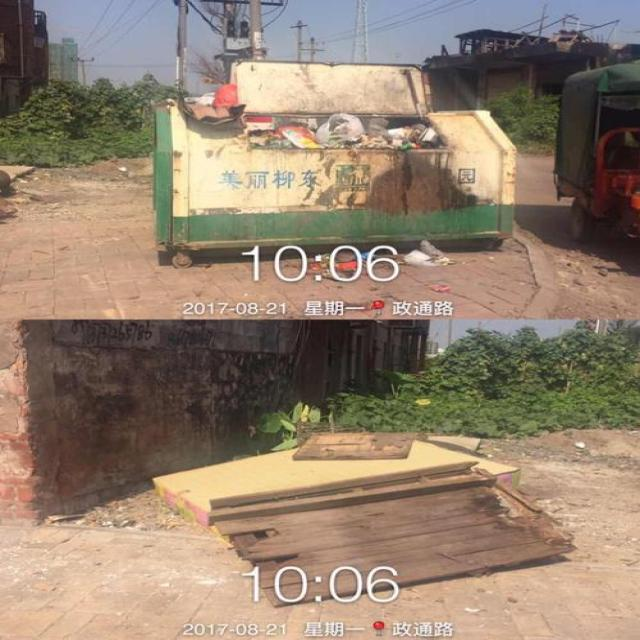garbage: (307, 238, 456, 277)
overflow: (152, 84, 517, 250)
